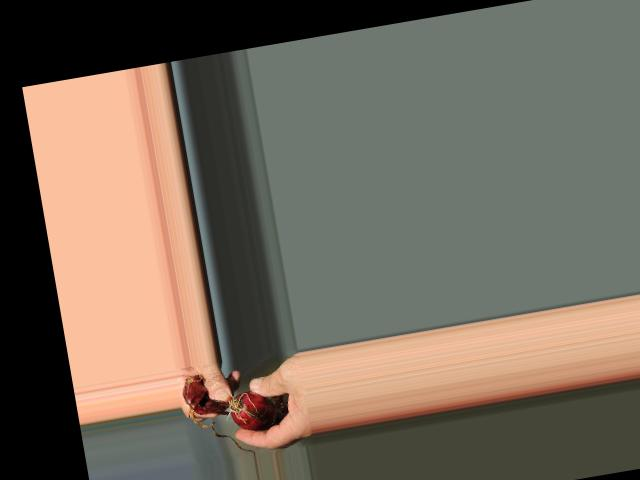onion: (227, 387, 272, 433)
